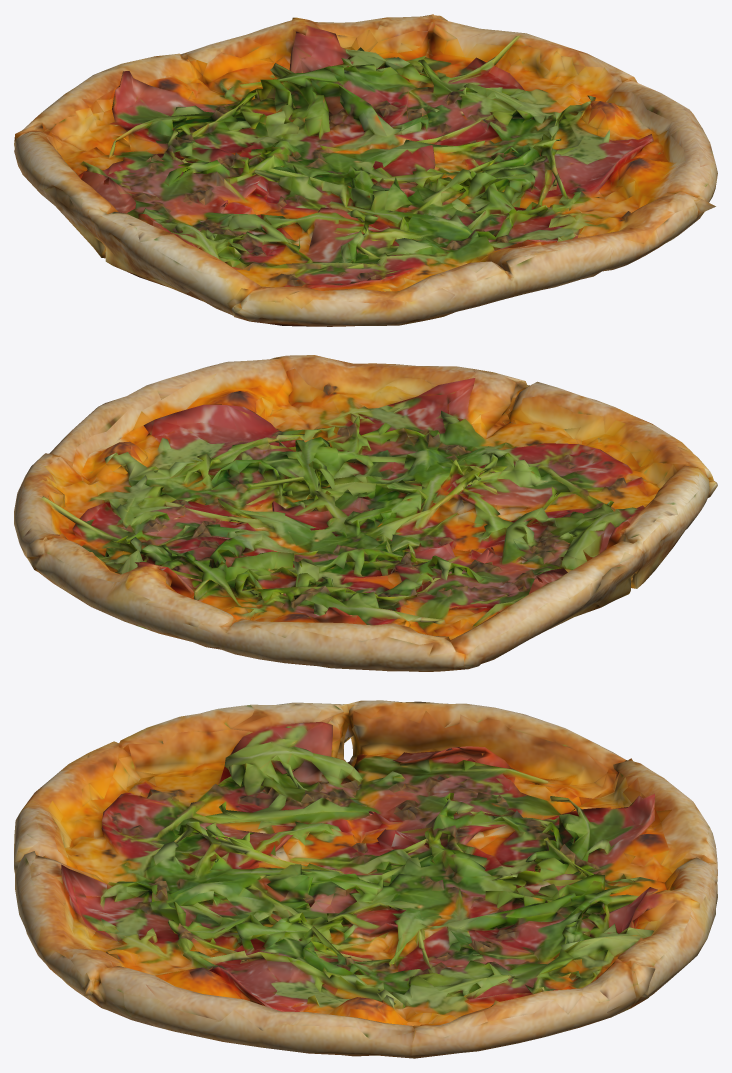
Rendered from PizzaOptimizada2.glb.
3 views of the same model, one above another, from view 1: azimuth 30°, elevation 25°; view 2: azimuth 150°, elevation 25°; view 3: azimuth 270°, elevation 25° (orthographic). The views are drawn at different scales.
Visible parts, largest first — view 1: pizza; view 2: pizza; view 3: pizza.
Boxes of the visible parts, x1=… form: pizza: x1=14, y1=14, x2=717, y2=326; pizza: x1=14, y1=355, x2=717, y2=671; pizza: x1=14, y1=700, x2=717, y2=1058.
Size of the model in its own units: 1.1 by 0.1109 by 1.06.
Materials: 1 (1 with a texture image).
